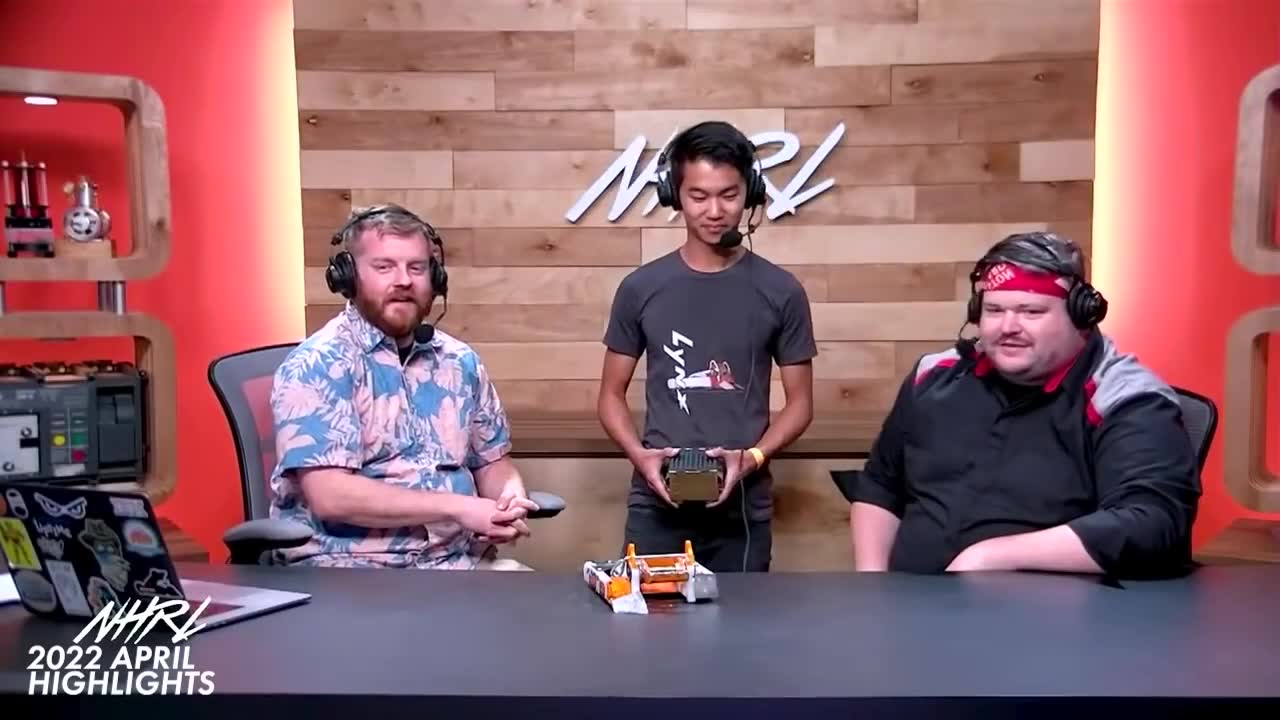combatbot: (581, 539, 721, 616)
